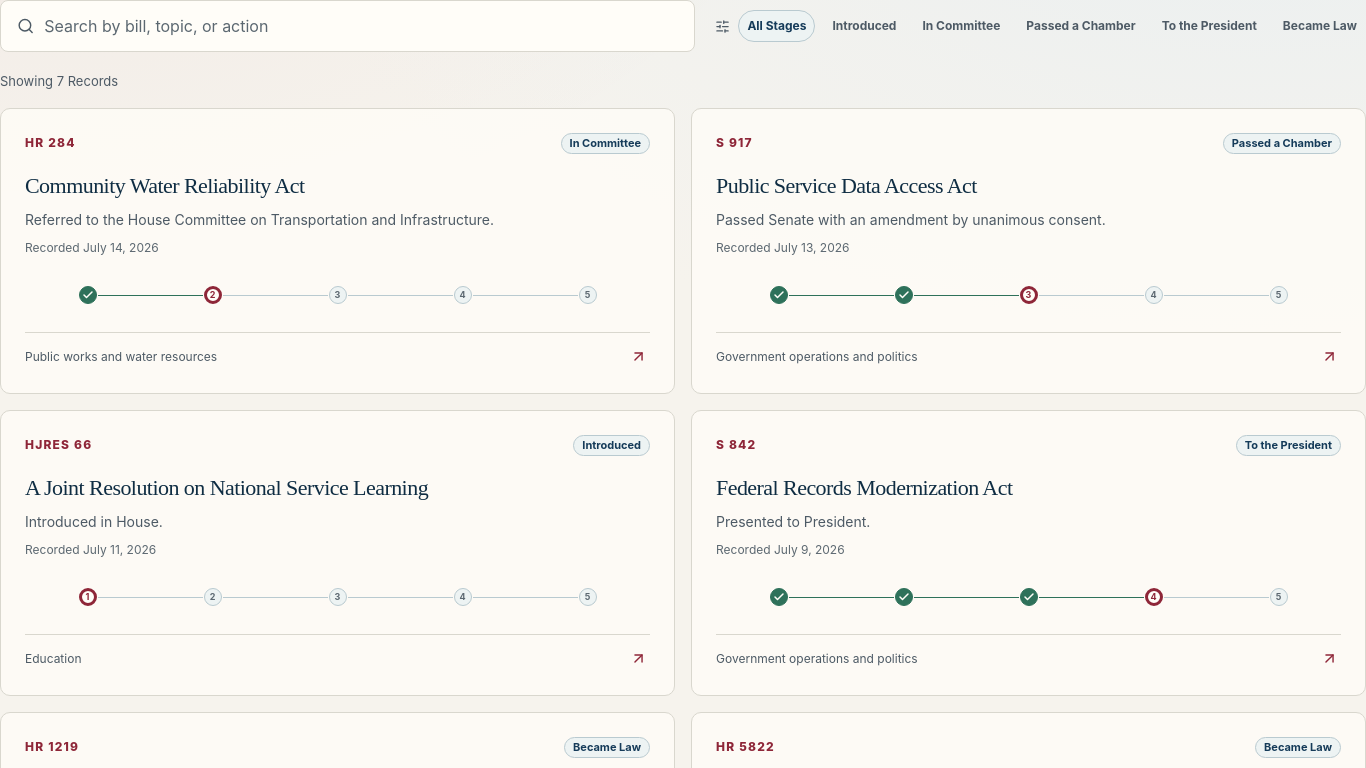
Test: BillDirectory › shows the search results and a scope note once the request resolves
In the search field named "Search bill records": (360, 26) [42,13,678,39], type "alpha"
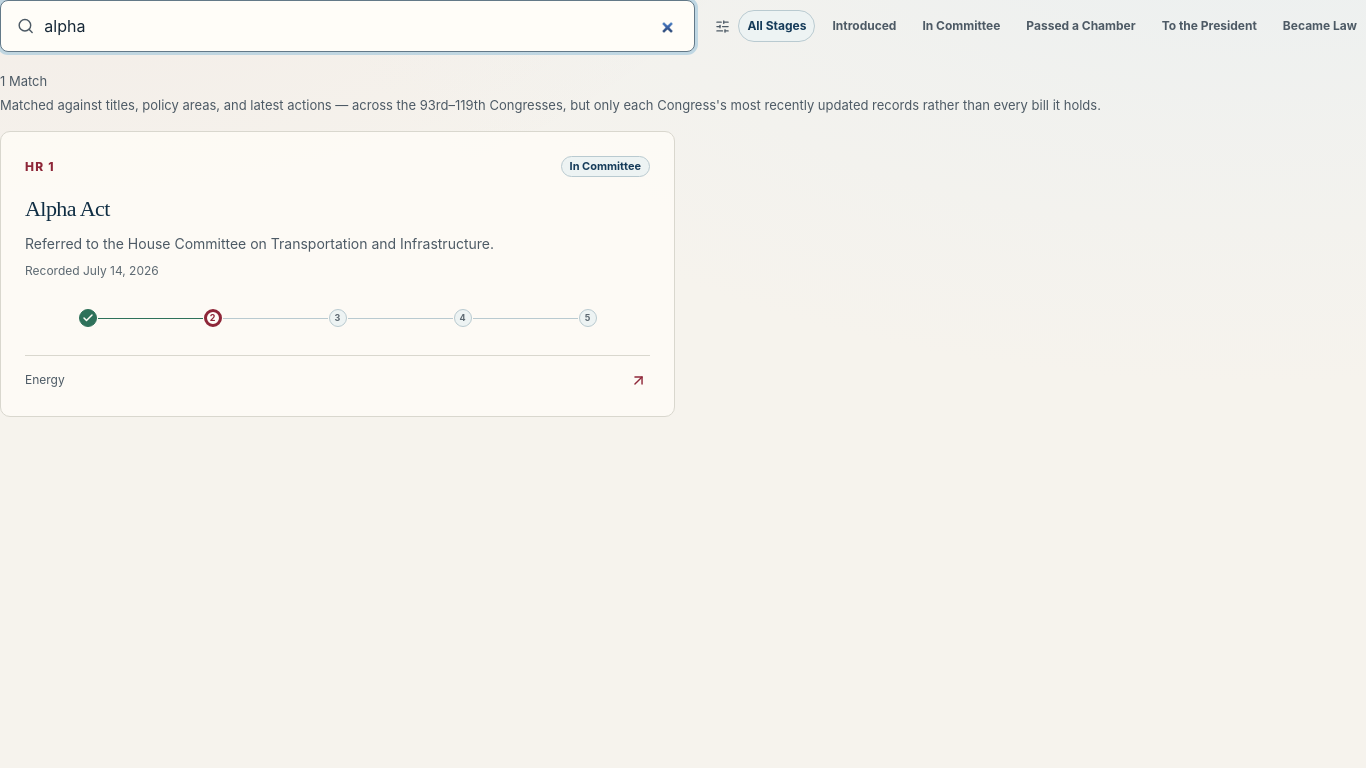
Now the link "Alpha Act" is shown, box [25,196,110,221]
Now the text "Matched against titles, policy areas, and latest actions" is shown, box [0,96,1101,112]
